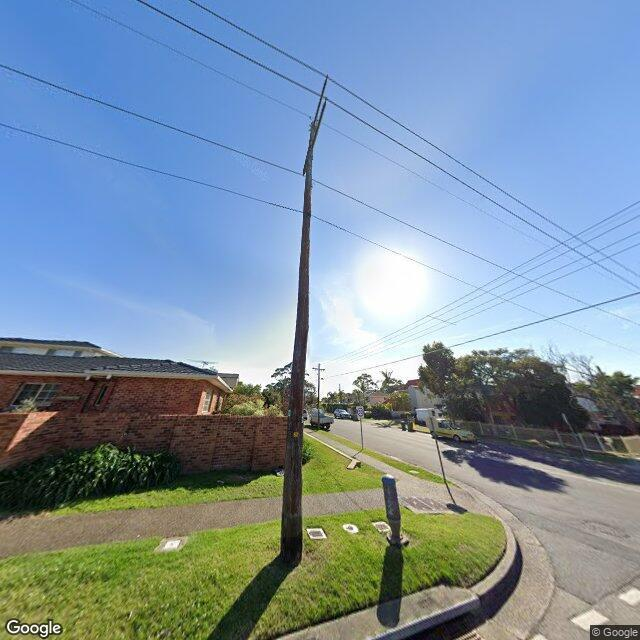HV-transmission: (300, 72, 330, 176)
crossarm: (312, 367, 325, 371)
timber-pole: (279, 121, 316, 564), (317, 363, 321, 430)
